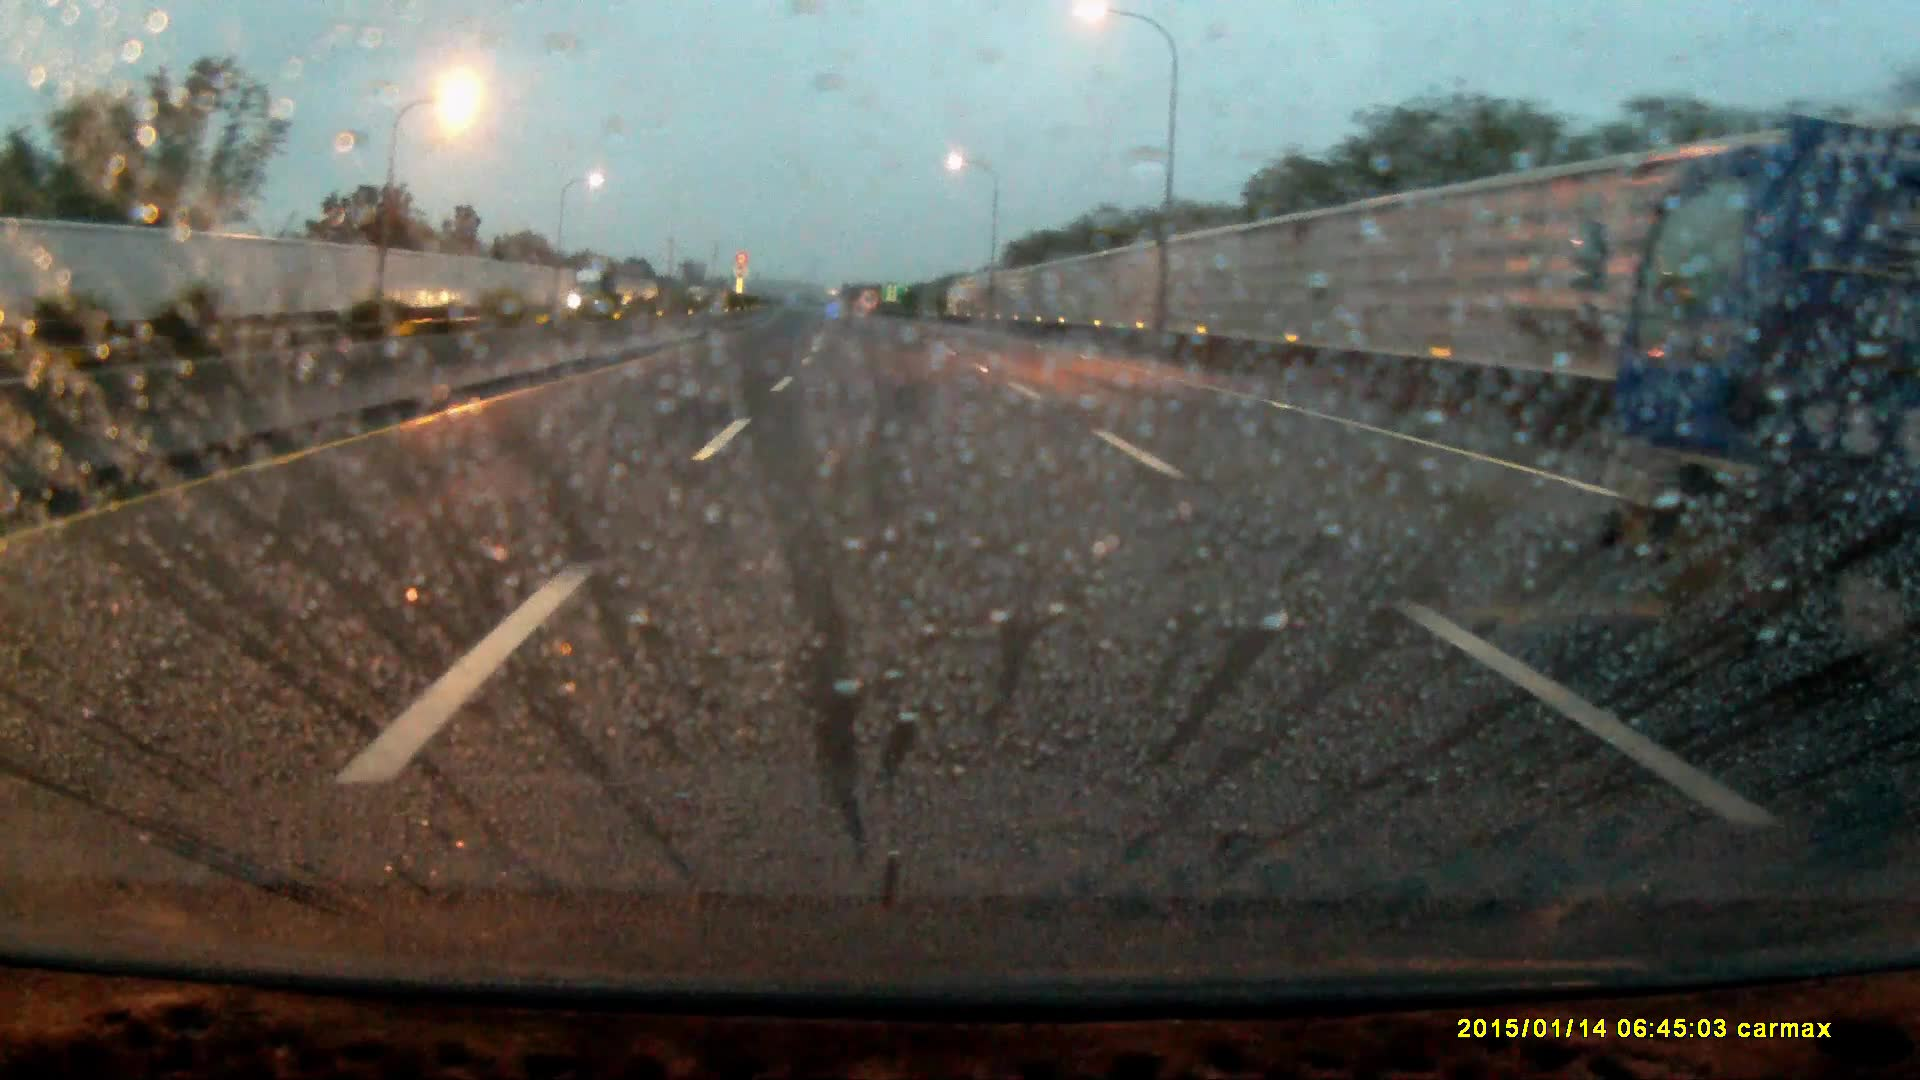vehicle: (1596, 137, 1920, 607), (574, 269, 616, 313)
